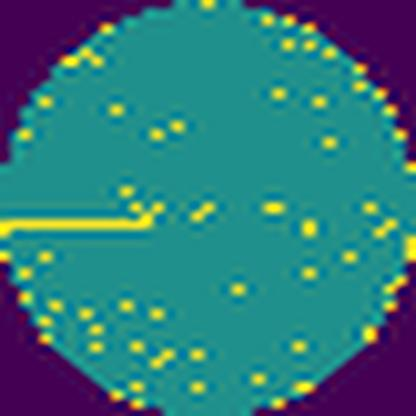Scratch: (0, 203, 164, 250)
